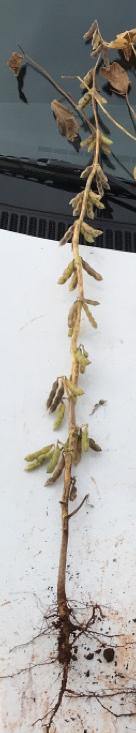soja: (24, 453, 65, 478), (78, 429, 101, 463), (21, 442, 59, 462), (44, 444, 65, 480), (49, 458, 71, 489), (79, 301, 100, 331), (83, 260, 106, 287), (56, 257, 78, 284), (43, 377, 59, 411), (65, 458, 80, 490), (52, 380, 65, 415), (78, 425, 94, 453), (96, 173, 116, 193), (70, 377, 86, 401), (63, 273, 82, 293), (85, 180, 101, 203), (85, 221, 105, 239), (56, 403, 67, 434), (60, 223, 75, 245), (81, 65, 95, 88), (84, 18, 96, 44), (80, 345, 90, 375), (77, 163, 95, 179), (65, 298, 75, 326), (79, 130, 95, 146), (69, 188, 84, 205), (80, 91, 96, 106), (94, 91, 109, 107), (84, 295, 102, 308), (98, 164, 110, 183), (80, 231, 94, 247), (92, 198, 106, 213), (100, 143, 115, 157), (101, 132, 115, 146), (77, 354, 93, 366), (87, 140, 97, 155), (71, 209, 82, 218), (68, 329, 75, 341)
